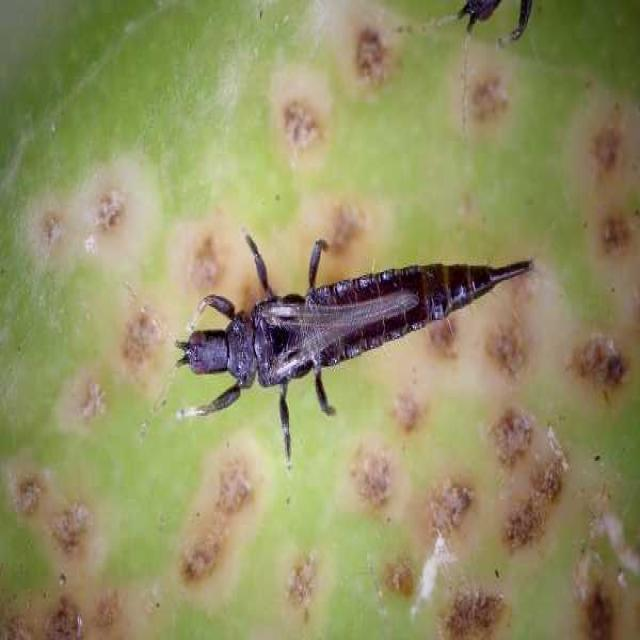Thrips: (139, 214, 557, 467)
